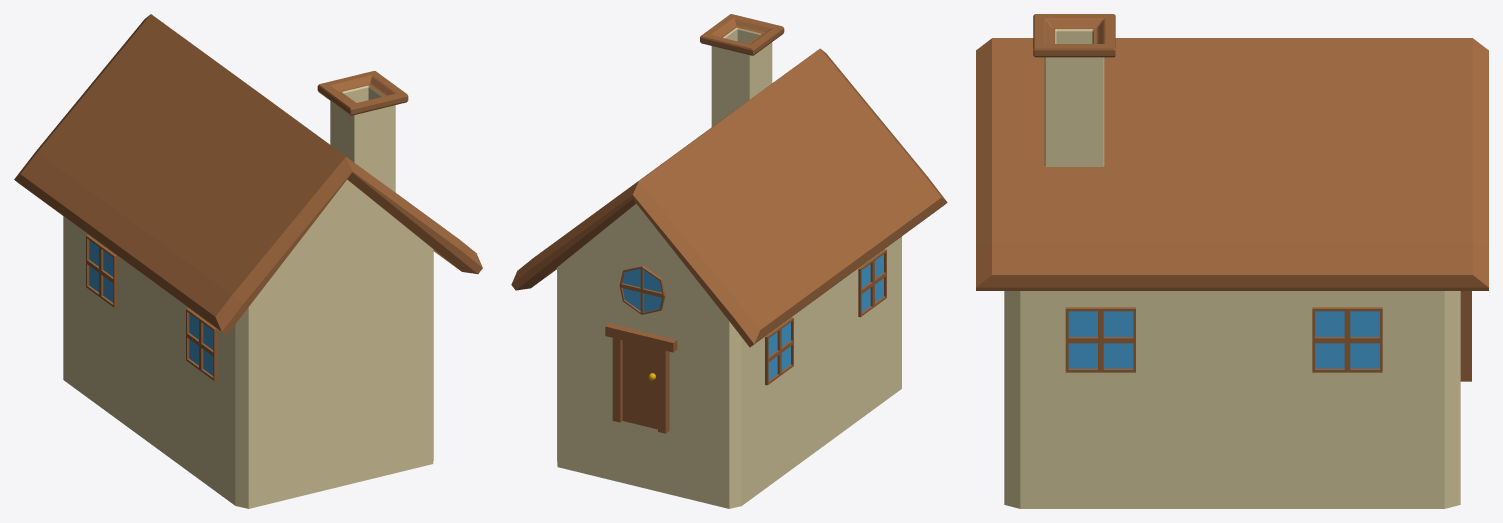
The model's file is House.fbx.
The picture shows the model from 3 angles, left to right: view 1: azimuth 30°, elevation 25°; view 2: azimuth 150°, elevation 25°; view 3: azimuth 270°, elevation 25°; orthographic projection. The views are drawn at different scales.
Parts seen in each view (by area): view 1: House; view 2: House; view 3: House.
Boxes of the visible parts, x1,y1,x2,y2 form: House: [14, 14, 482, 508]; House: [511, 14, 947, 508]; House: [976, 14, 1488, 508].
Size of the model in its own units: 170 by 226 by 234.
